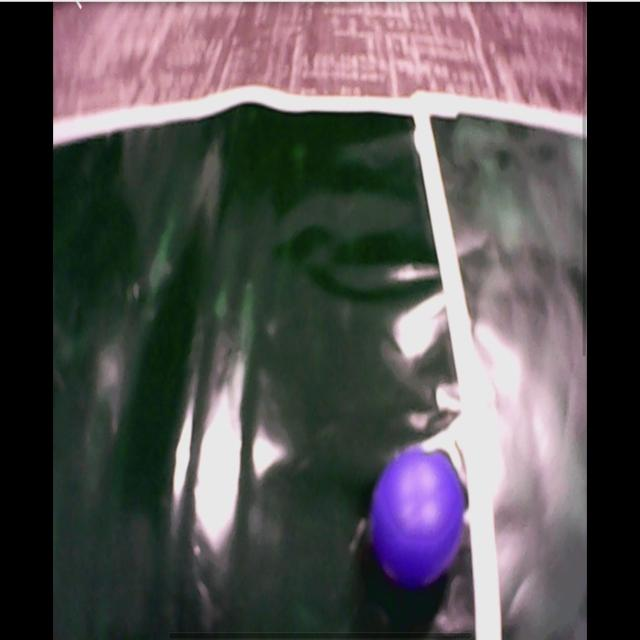ball: (373, 450, 467, 585)
